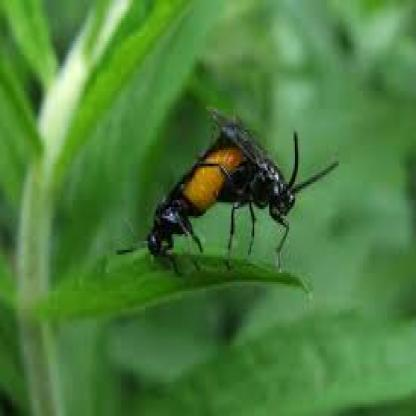sawfly: (204, 104, 340, 268), (127, 122, 246, 272)
